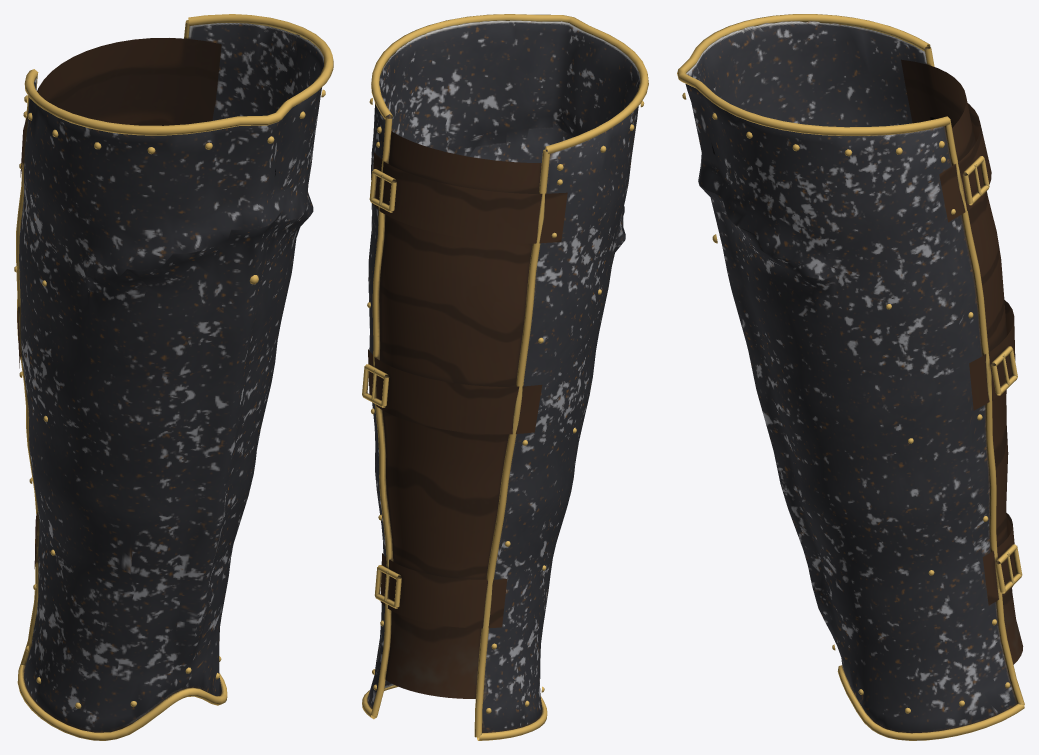
Rendered from SM_EagleGreaves_L_LOD1.fbx.
The picture shows the model from 3 angles, left to right: view 1: azimuth 30°, elevation 25°; view 2: azimuth 150°, elevation 25°; view 3: azimuth 270°, elevation 25°; orthographic projection. The views are drawn at different scales.
Parts seen in each view (by area): view 1: SM_EagleGreaves_L_LOD1; view 2: SM_EagleGreaves_L_LOD1; view 3: SM_EagleGreaves_L_LOD1.
Boxes of the visible parts, x1,y1,x2,y2 form: SM_EagleGreaves_L_LOD1: [14, 14, 333, 740]; SM_EagleGreaves_L_LOD1: [362, 14, 648, 740]; SM_EagleGreaves_L_LOD1: [677, 14, 1024, 740].
Size of the model in its own units: 0.1611 by 0.3924 by 0.1922.
